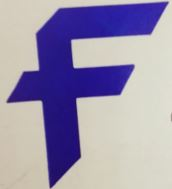Fisher: (5, 1, 169, 189)
